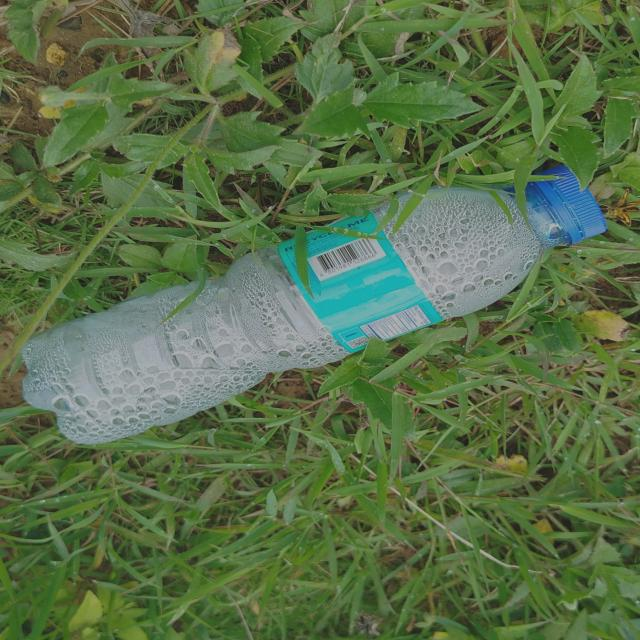plastic: (7, 153, 631, 449)
